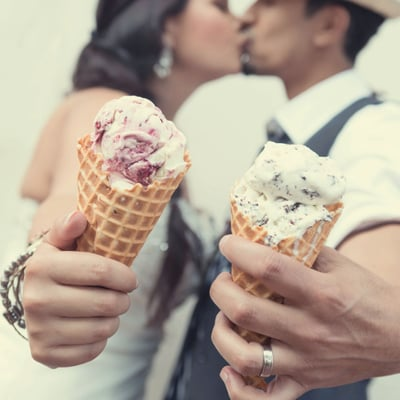salad: (73, 95, 193, 267)
